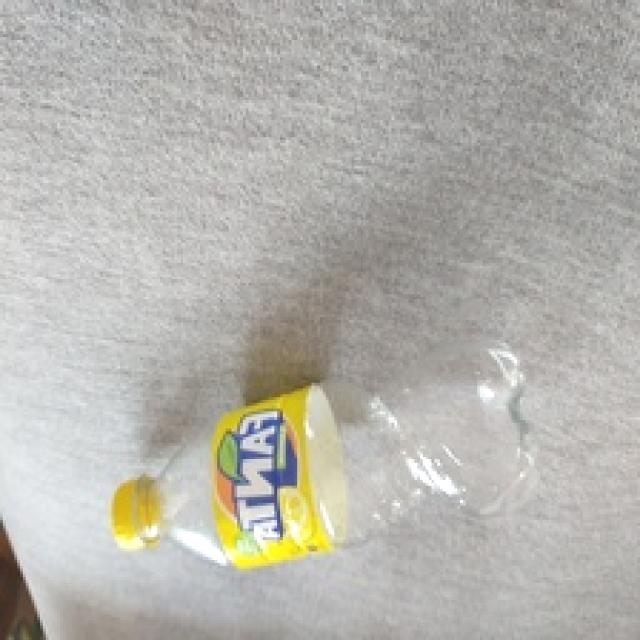bottle: (110, 338, 544, 577)
